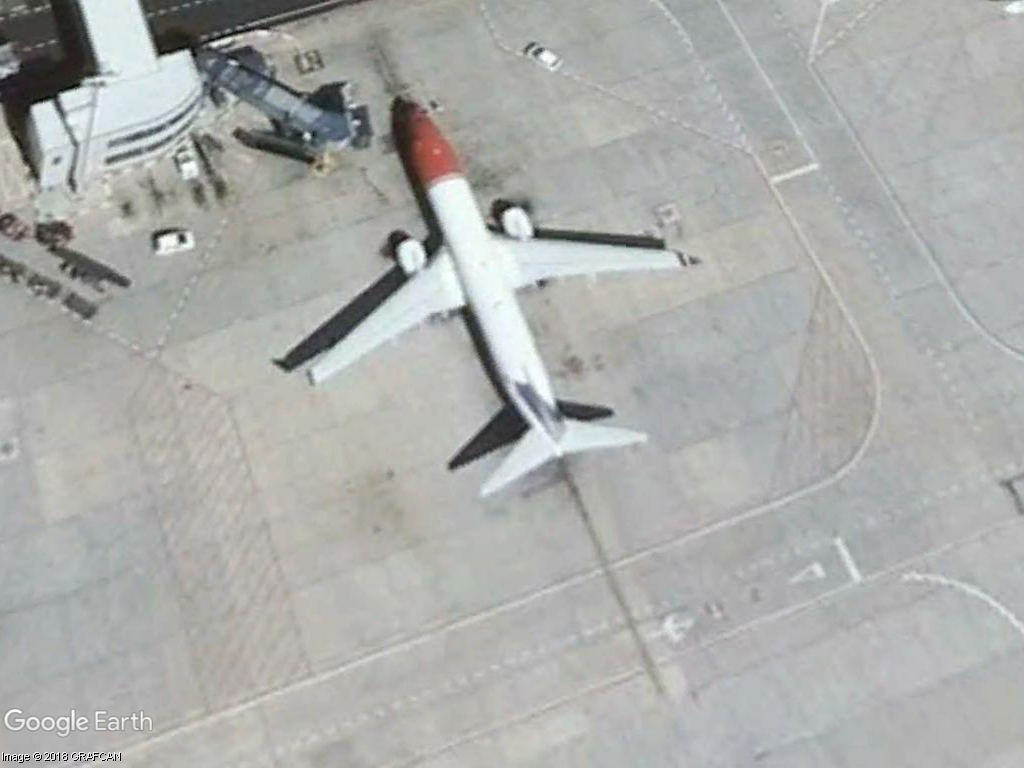airliner: (277, 97, 704, 521)
